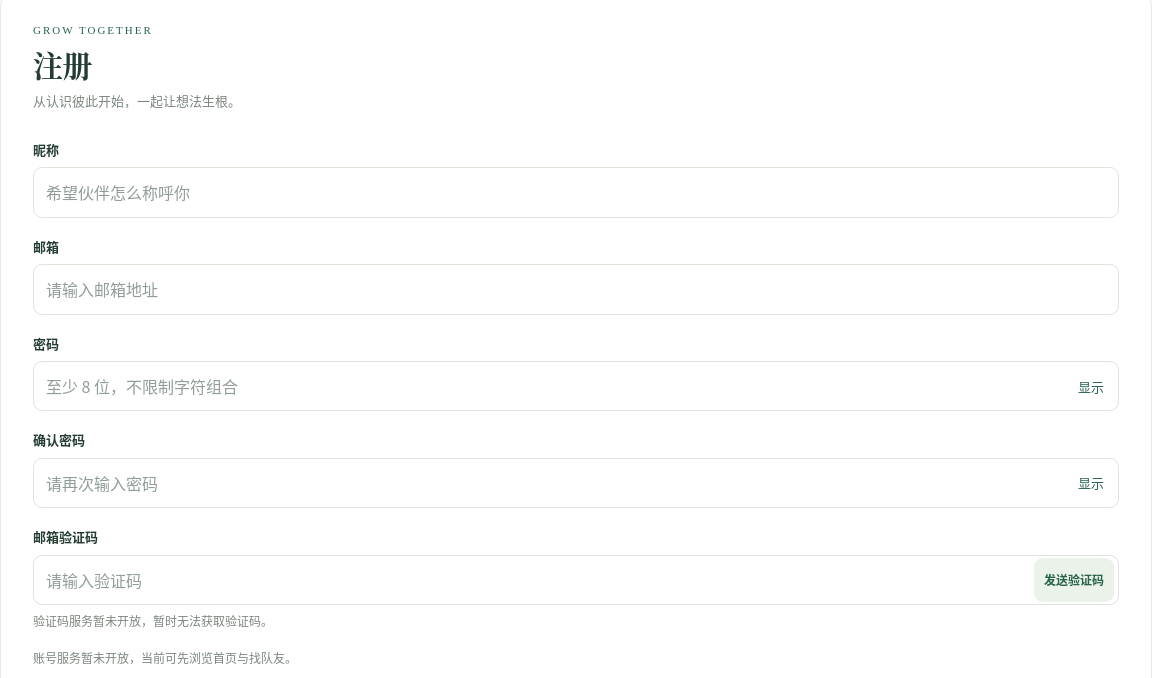
Test: 登录注册表单 › 注册非法字段有反馈且不显示认证结果：{"email":"invalid"}
Type "禾苗" into the field with id "auth-nickname" at (576, 193), box [34, 168, 1118, 217]
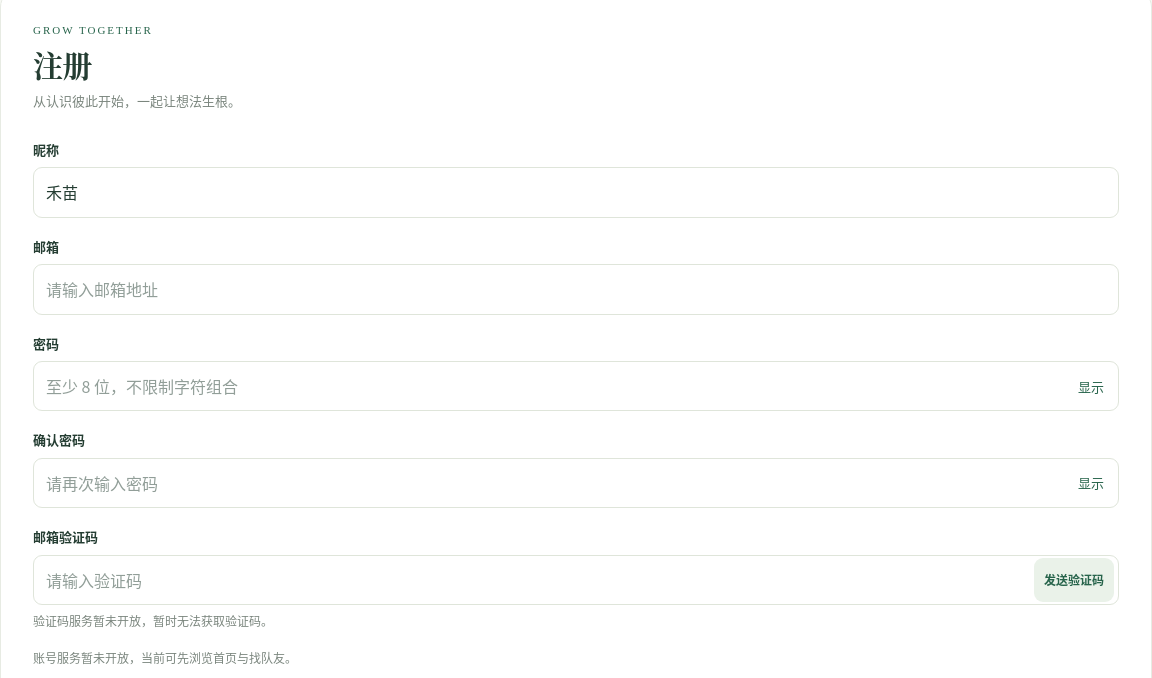
Type "invalid" into the field labelled "邮箱" at (576, 289), box [34, 265, 1118, 314]
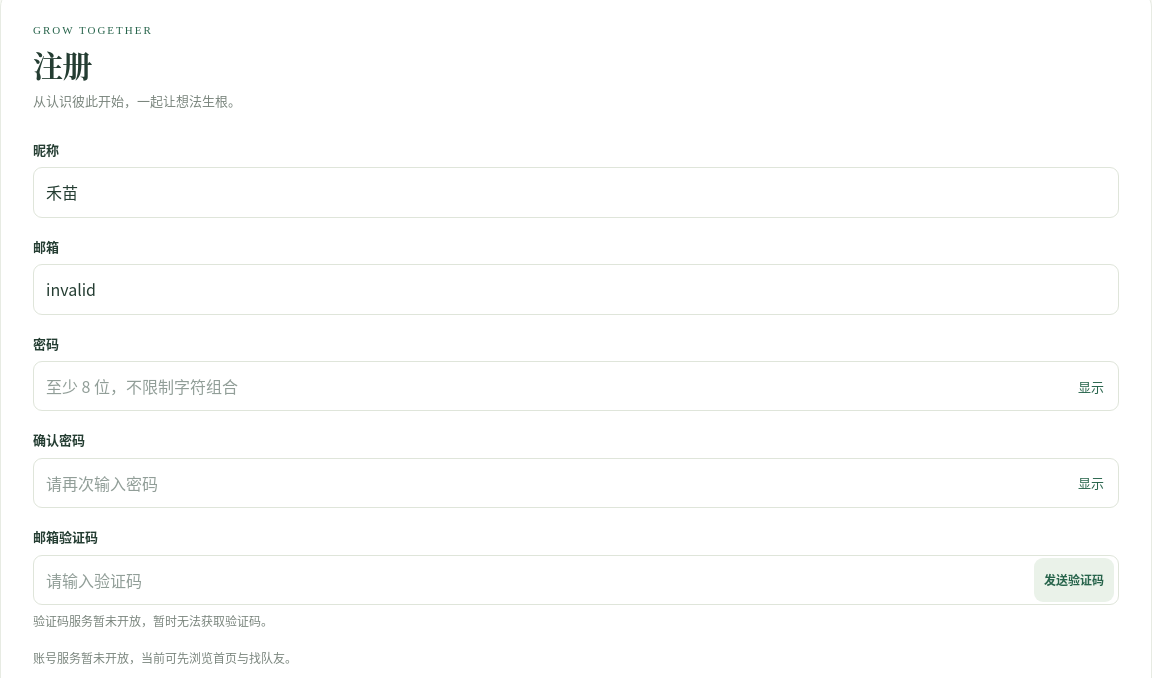
Type "abcdefgh" into the password field with id "auth-password" at (551, 386), box [34, 362, 1068, 410]
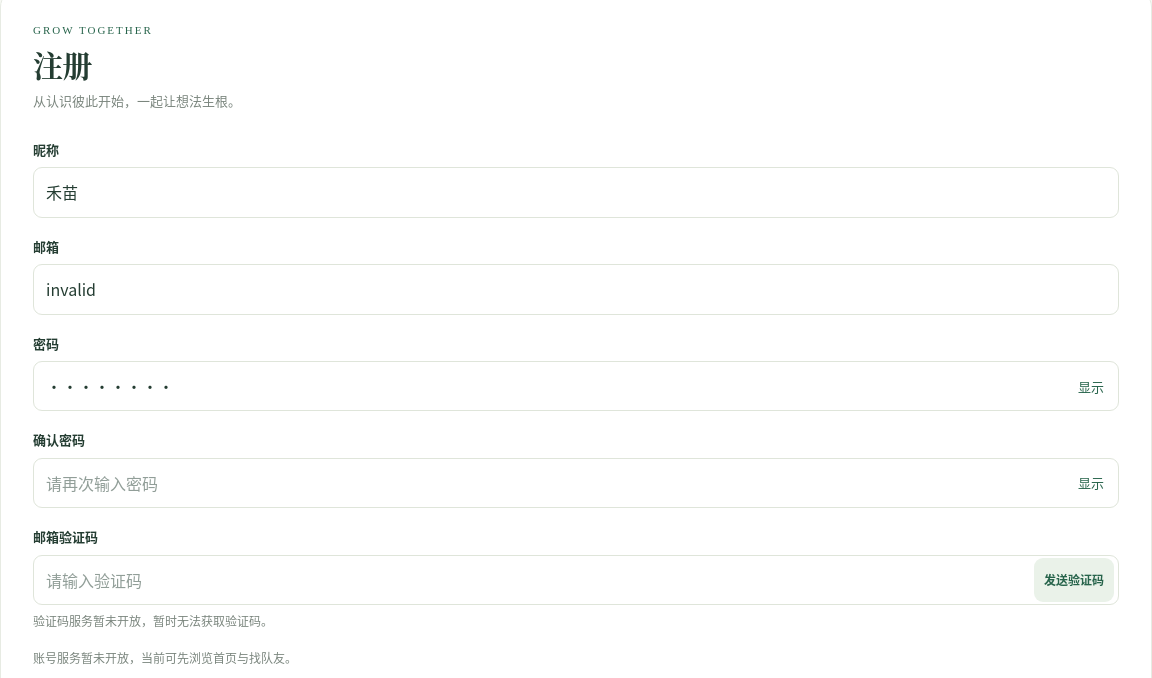
Type "abcdefgh" into the password field labelled "确认密码" at (551, 483), box [34, 459, 1068, 507]
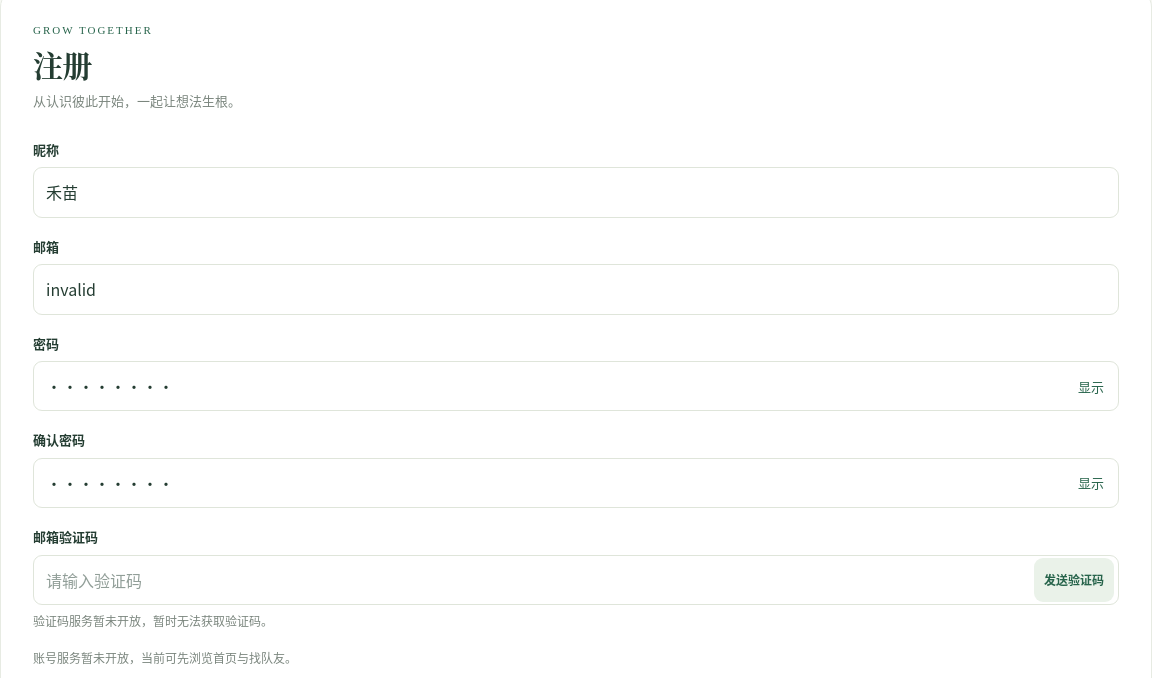
Type "arbitrary-code" into the field labelled "邮箱验证码" at (534, 580), box [34, 556, 1034, 604]
(page scrolled)
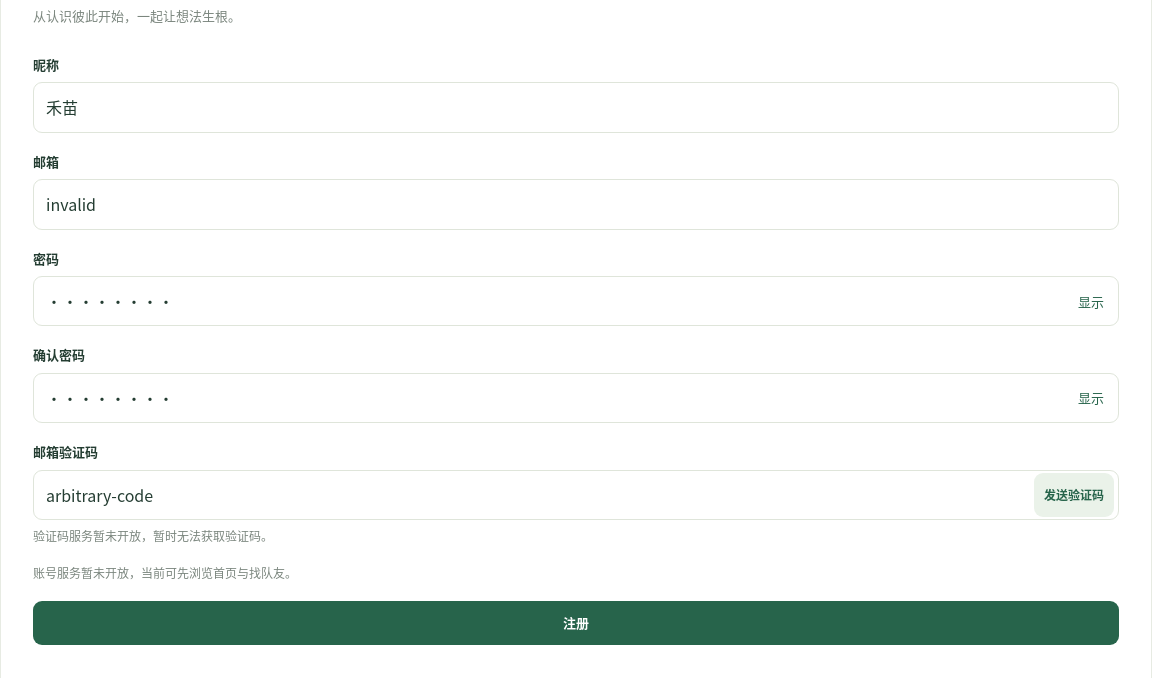
Submit the form
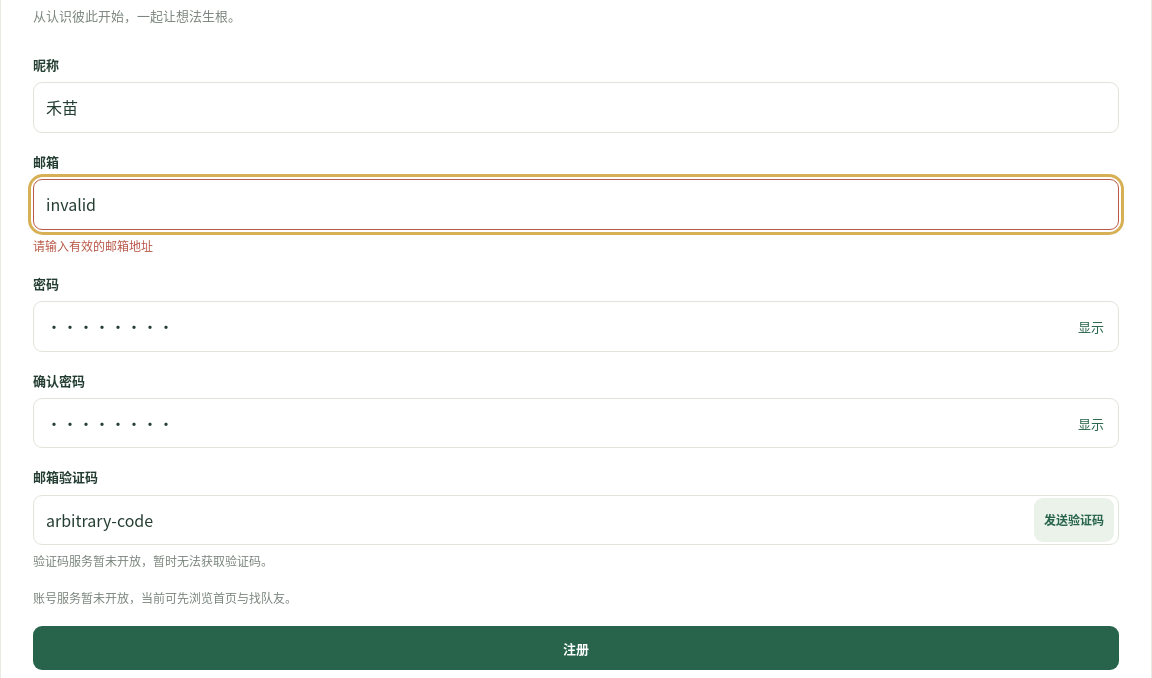
Now the text "请输入有效的邮箱地址" is shown, box [33, 237, 153, 254]
